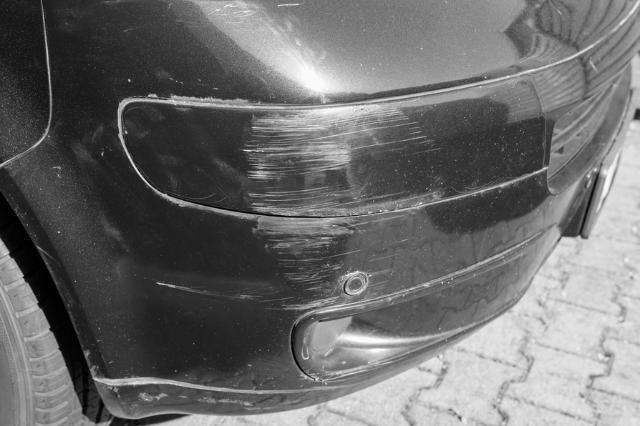Bumper: (110, 37, 591, 342)
